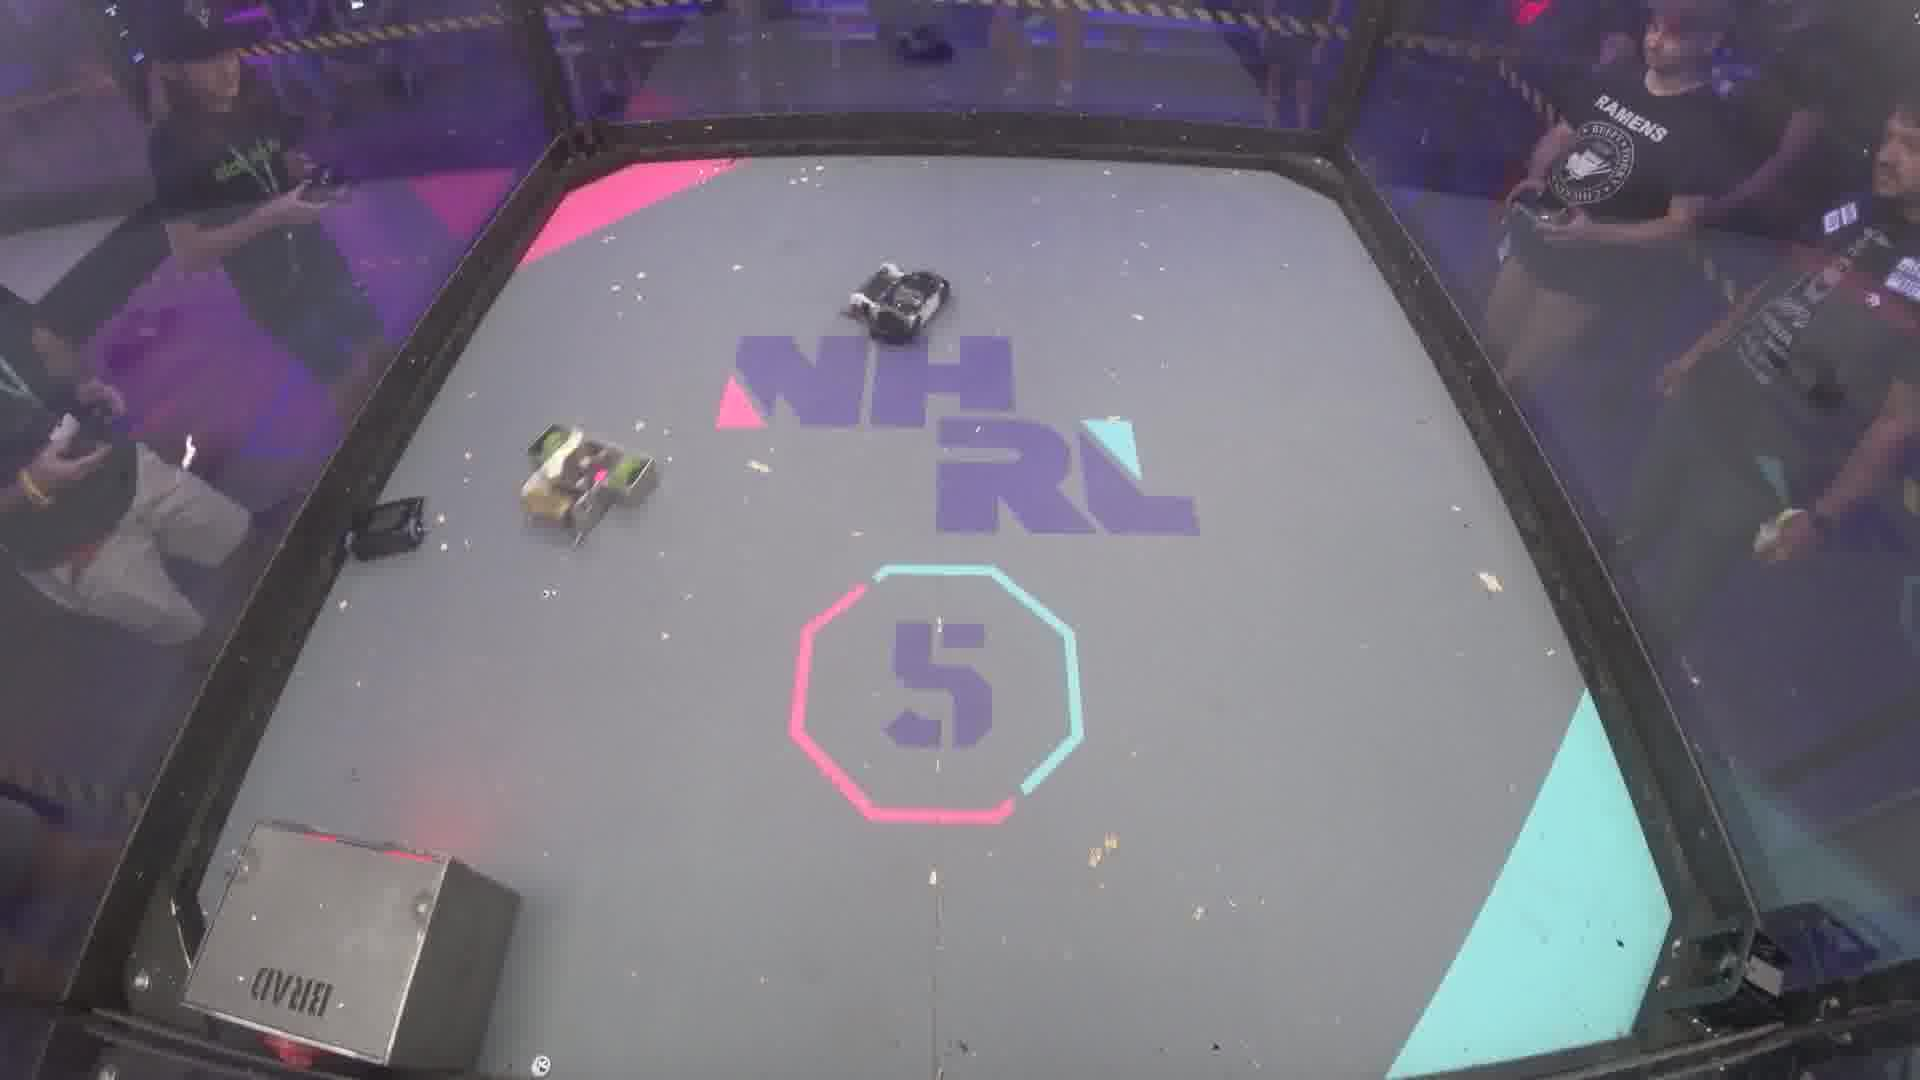combatbot: (516, 425, 662, 553), (837, 262, 953, 345)
housebot: (183, 818, 518, 1069)
minibot: (345, 495, 430, 563)
